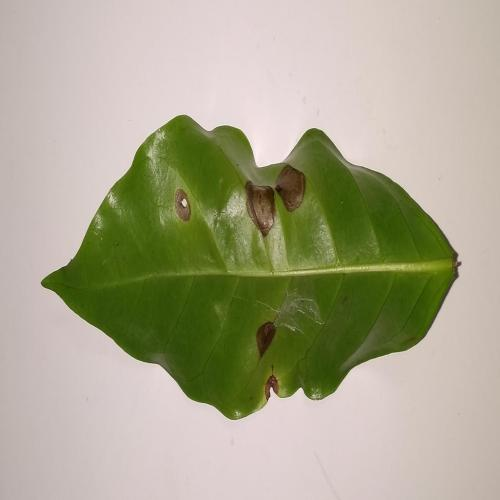miner: (245, 163, 306, 238)
